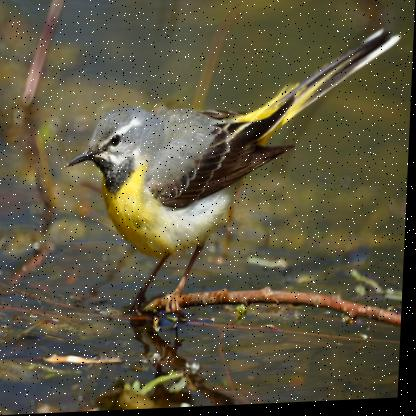Burung: (61, 24, 403, 317)
